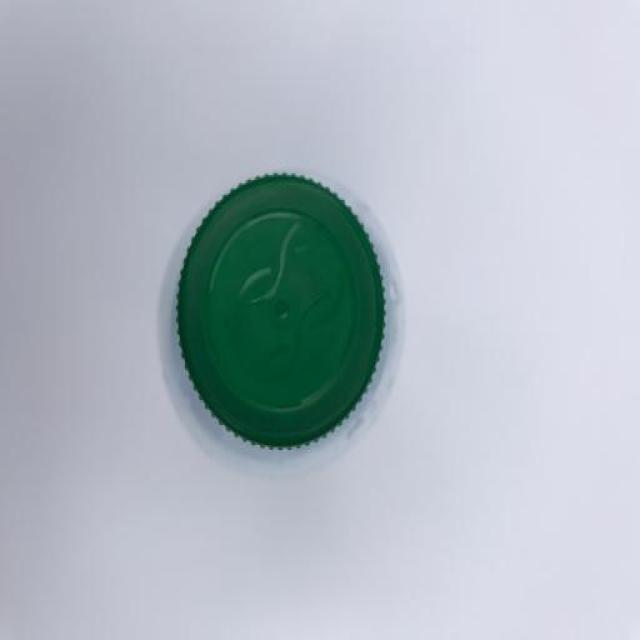plastic: (152, 163, 412, 480)
